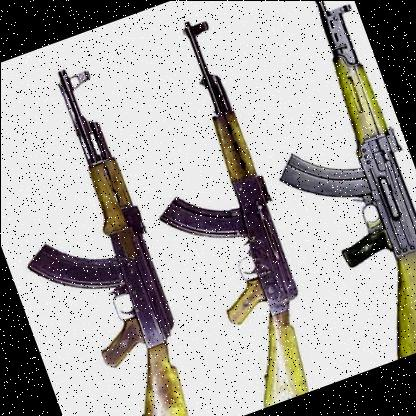rifle: (102, 7, 358, 416), (0, 55, 240, 416), (207, 0, 416, 381)
